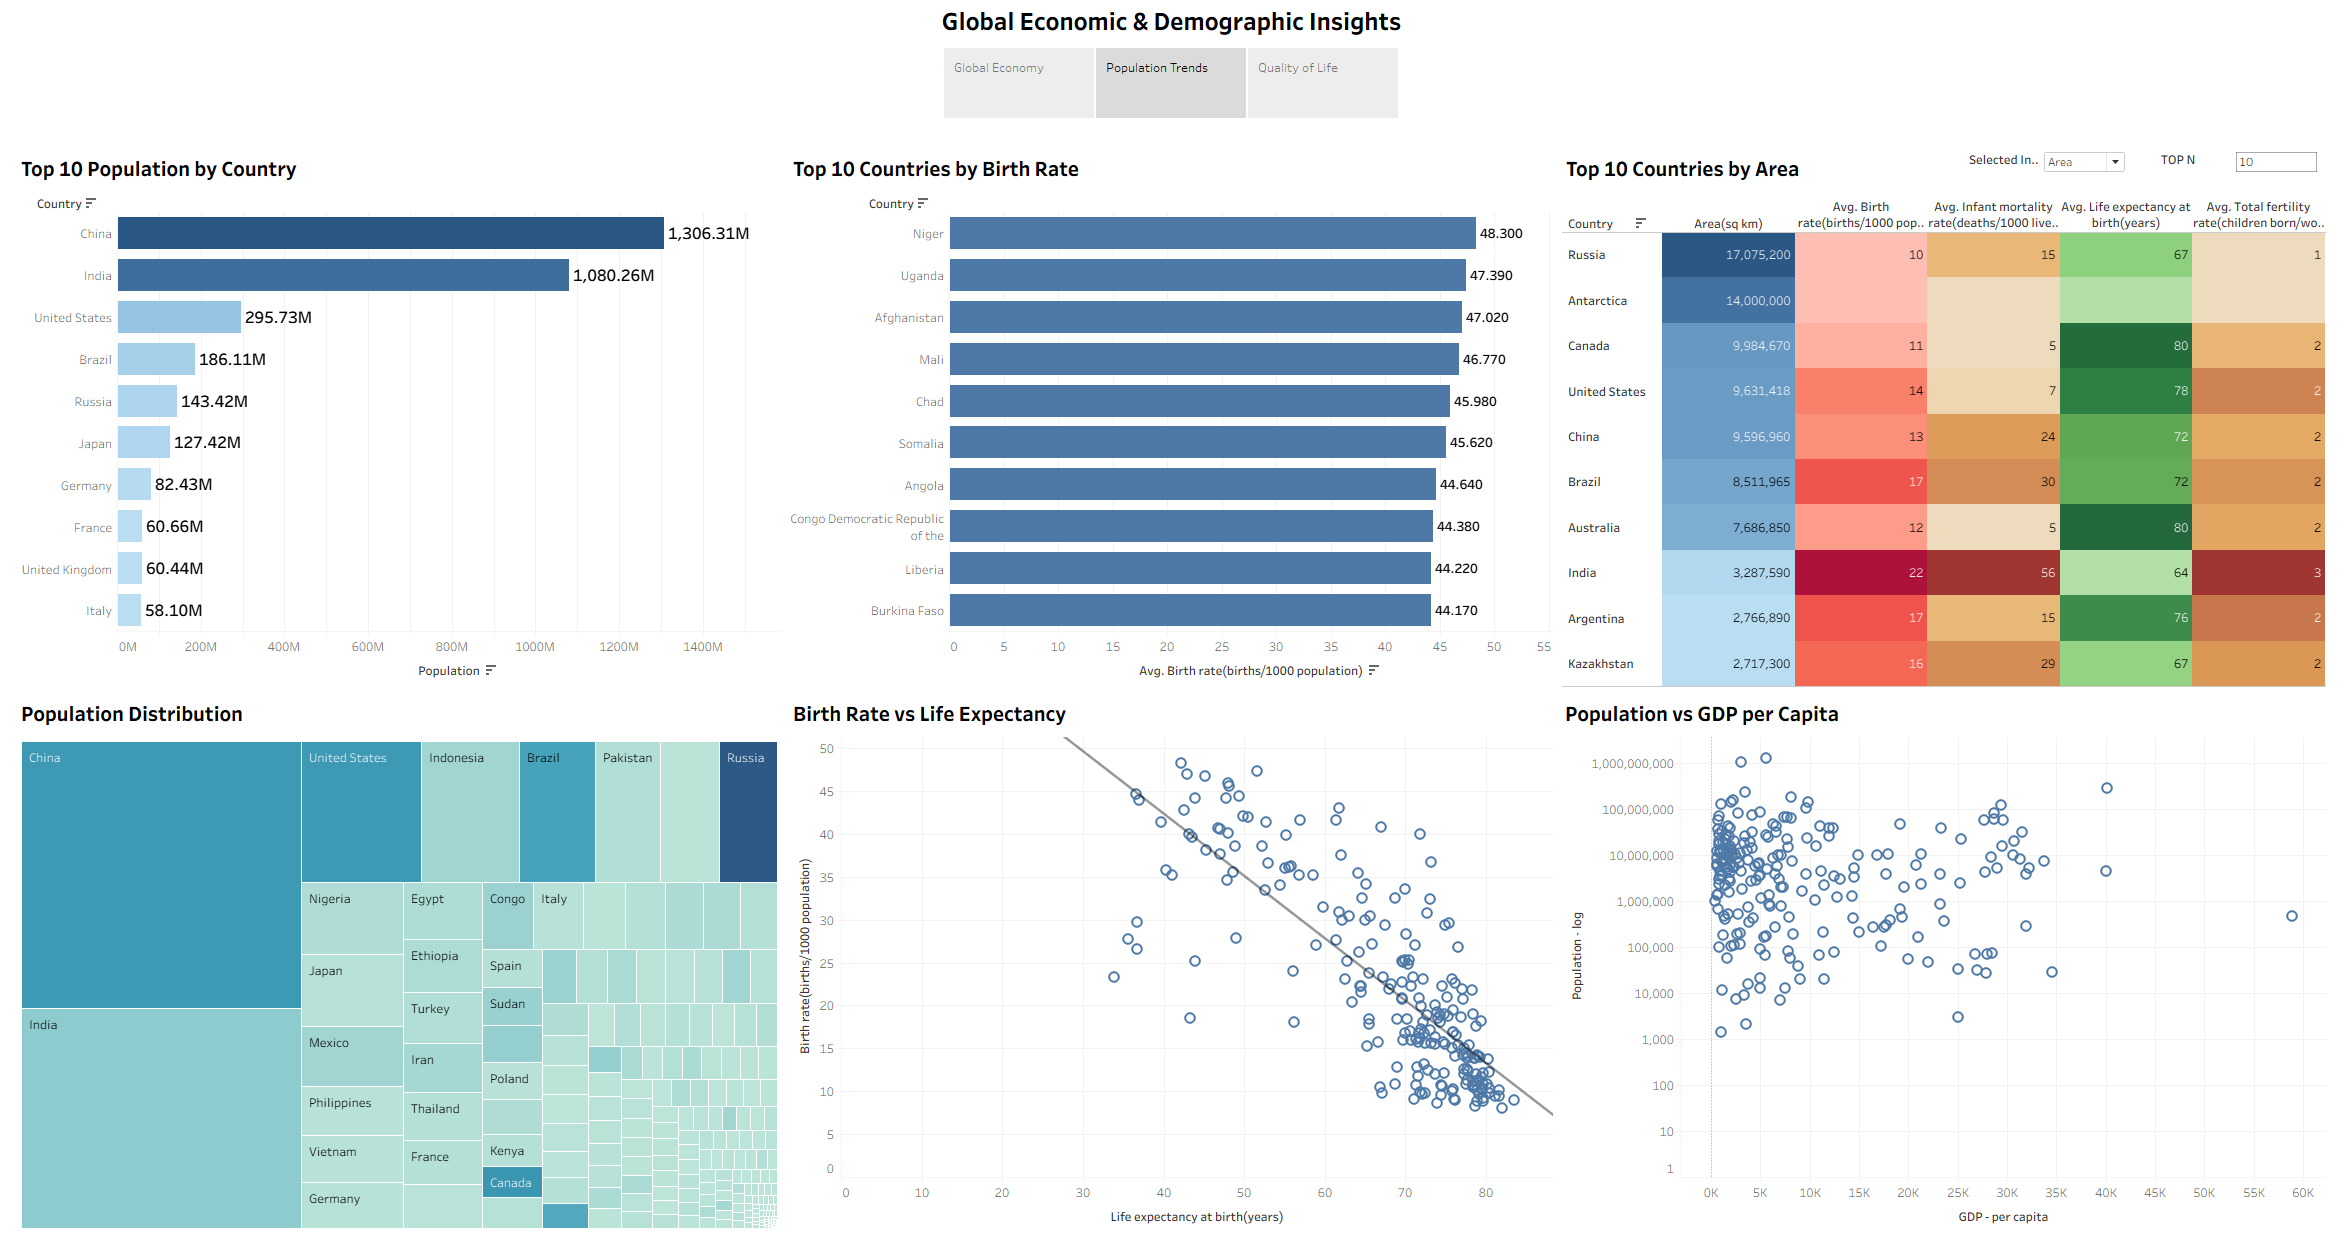

What the dashboard file says about the page in this screenshot:
{"tool":"tableau","page":{"name":"Population & Demographic Analysis","canvas":[1000,1000],"units":"permille","ordinal":2},"visuals":[{"type":"worksheet","title":"Population by Country","mark":"Automatic","rows":["Country"],"cols":["Population"],"box":[3.4,6.4,331,493.6]},{"type":"worksheet","title":"Birth Rate By Country","mark":"Automatic","rows":["Country"],"cols":["Birth rate(births/1000 population)"],"box":[334.4,6.4,331.1,493.6]},{"type":"worksheet","title":"Demographic Indicators","mark":"Square","rows":["Country"],"box":[665.5,6.4,331.1,493.6]},{"type":"parameter","param":"[Parameters].[Parameter 1497045291749376]","box":[924.2,9.6,68.1,35]},{"type":"parameter","param":"[Parameters].[Parameter 0495665839681544]","box":[841.6,10.3,68.1,35]},{"type":"worksheet","title":"Population Distribution","mark":"Automatic","box":[3.4,500,331,493.6]},{"type":"worksheet","title":"Birth Rate vs Life Expectancy","mark":"Automatic","rows":["Birth rate(births/1000 population)"],"cols":["Life expectancy at birth(years)"],"box":[334.4,500,330.9,493.6]},{"type":"worksheet","title":"Population vs GDP per Capita","mark":"Automatic","rows":["Population"],"cols":["GDP - per capita"],"box":[665.4,500,331.2,493.6]}]}

Visuals, with their boxes on the dashboard's canvas, which has no fixed pixel size, in thousandths of its width and height (x1, y1, x2, y2). These are canvas units, not pixel positions in the 2346x1249 screenshot, which may show the page scaled, cropped or inside an application window:
"Population by Country" worksheet: region(3, 6, 334, 500)
"Birth Rate By Country" worksheet: region(334, 6, 666, 500)
"Demographic Indicators" worksheet (Square marks): region(666, 6, 997, 500)
parameter: region(924, 10, 992, 45)
parameter: region(842, 10, 910, 45)
"Population Distribution" worksheet: region(3, 500, 334, 994)
"Birth Rate vs Life Expectancy" worksheet: region(334, 500, 665, 994)
"Population vs GDP per Capita" worksheet: region(665, 500, 997, 994)
